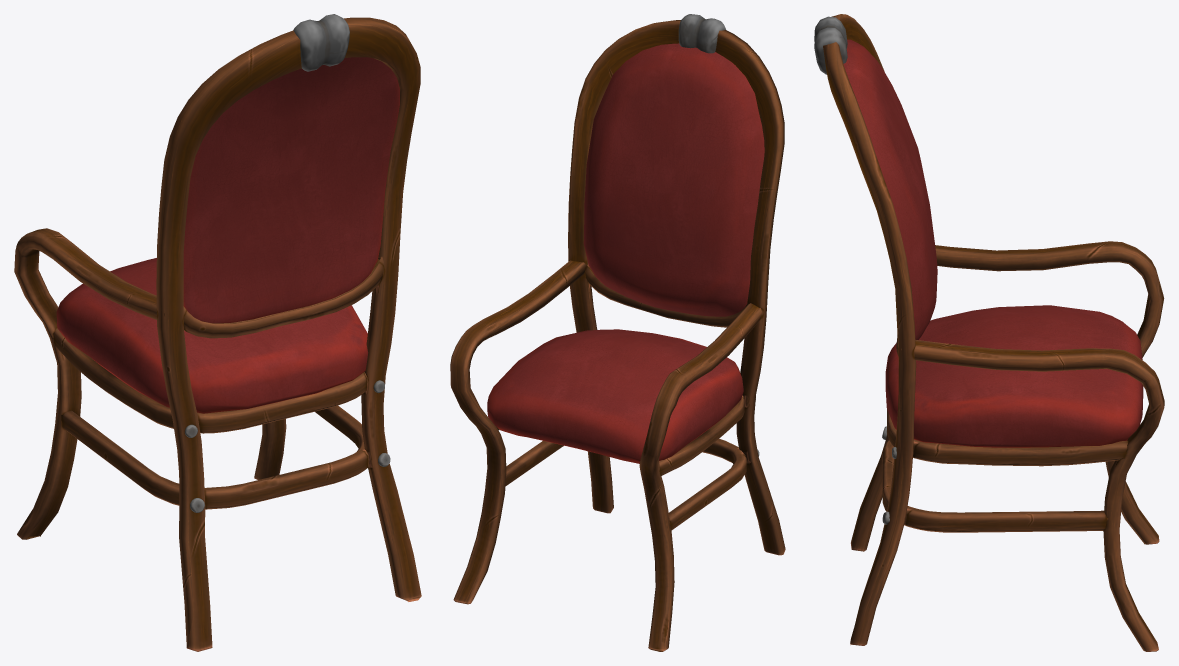
The model's file is SM_Chair.fbx.
3 renders of one model, left to right at view 1: azimuth 30°, elevation 25°; view 2: azimuth 150°, elevation 25°; view 3: azimuth 270°, elevation 25°, orthographic. The views are drawn at different scales.
Parts seen in each view (by area): view 1: SM_Chair_LOD0; view 2: SM_Chair_LOD0; view 3: SM_Chair_LOD0.
Boxes of the visible parts, bbox=[...] form: SM_Chair_LOD0: bbox=[14, 14, 421, 651]; SM_Chair_LOD0: bbox=[450, 14, 785, 651]; SM_Chair_LOD0: bbox=[814, 14, 1164, 651].
Size of what is drawn, in the model's own units: 0.962 by 2.14 by 1.19.
